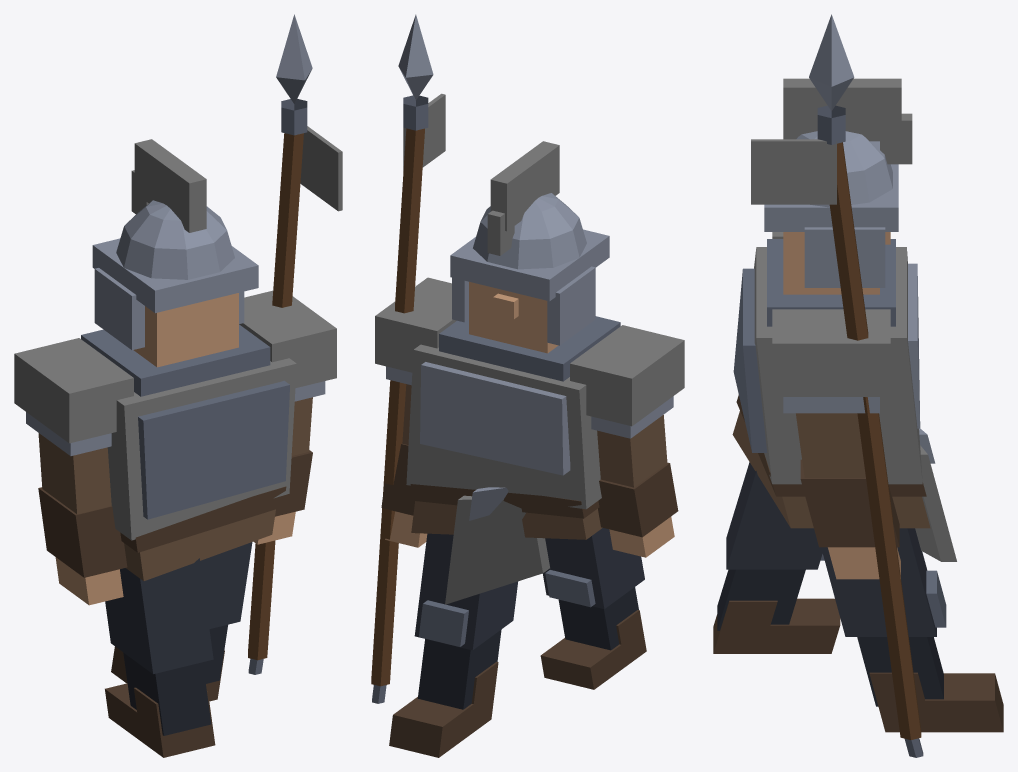
The model's file is infantry-walk-6.obj.
3 renders of one model, left to right at view 1: azimuth 30°, elevation 25°; view 2: azimuth 150°, elevation 25°; view 3: azimuth 270°, elevation 25°, orthographic. The views are drawn at different scales.
Visible parts, largest first — view 1: infantry-walk-6; view 2: infantry-walk-6; view 3: infantry-walk-6.
Boxes of the visible parts, <box> form: infantry-walk-6: <box>14,14,342,757</box>; infantry-walk-6: <box>371,14,684,757</box>; infantry-walk-6: <box>713,14,1003,757</box>.
Size of the model in its own units: 1.25 by 3.06 by 1.08.
